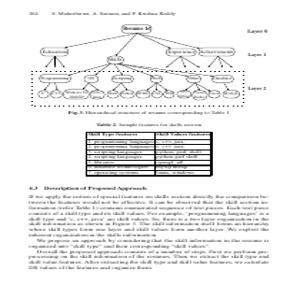diagram: (24, 19, 272, 108)
table: (85, 131, 214, 179)
text: (27, 186, 270, 272), (63, 109, 233, 129), (25, 5, 177, 19)
